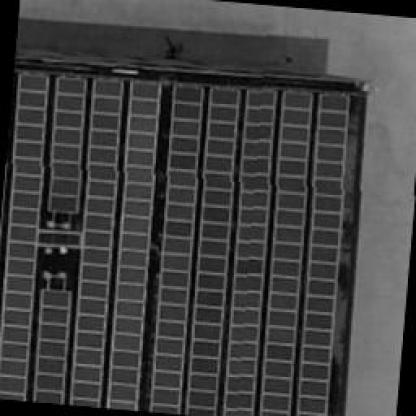solar-pv-panel: (147, 82, 202, 414), (104, 80, 159, 410), (67, 78, 120, 407), (184, 86, 236, 416), (222, 88, 273, 416), (259, 90, 310, 416), (297, 93, 347, 416), (0, 73, 47, 401), (47, 76, 83, 212), (31, 290, 69, 404)
